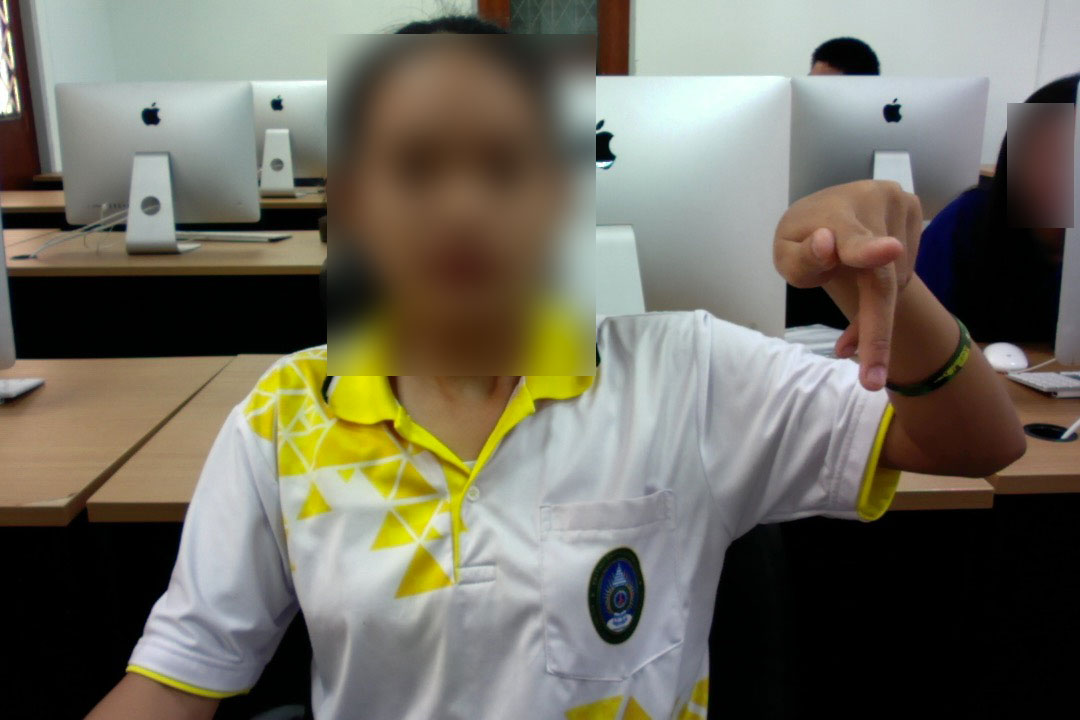por: (766, 167, 927, 395)
